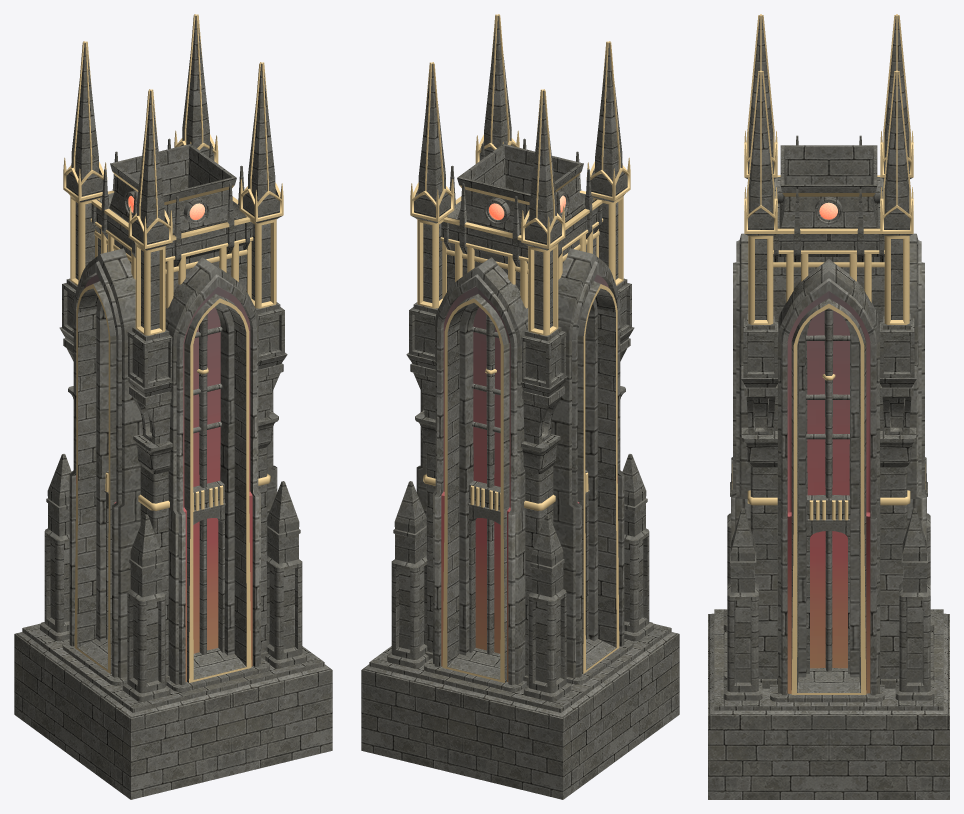
Rendered from fireTower.glb.
3 views of the same model, side by side, from view 1: azimuth 30°, elevation 25°; view 2: azimuth 150°, elevation 25°; view 3: azimuth 270°, elevation 25° (orthographic). The views are drawn at different scales.
Parts seen in each view (by area): view 1: InfernoTower_Level3; view 2: InfernoTower_Level3; view 3: InfernoTower_Level3.
Part boxes in pixels (x1,y1,x2,y2): InfernoTower_Level3: (14, 14, 332, 799); InfernoTower_Level3: (361, 14, 679, 799); InfernoTower_Level3: (708, 14, 949, 799).
Size of the model in its own units: 8.8 by 28.34 by 8.8.
1 material, 1 textured.
